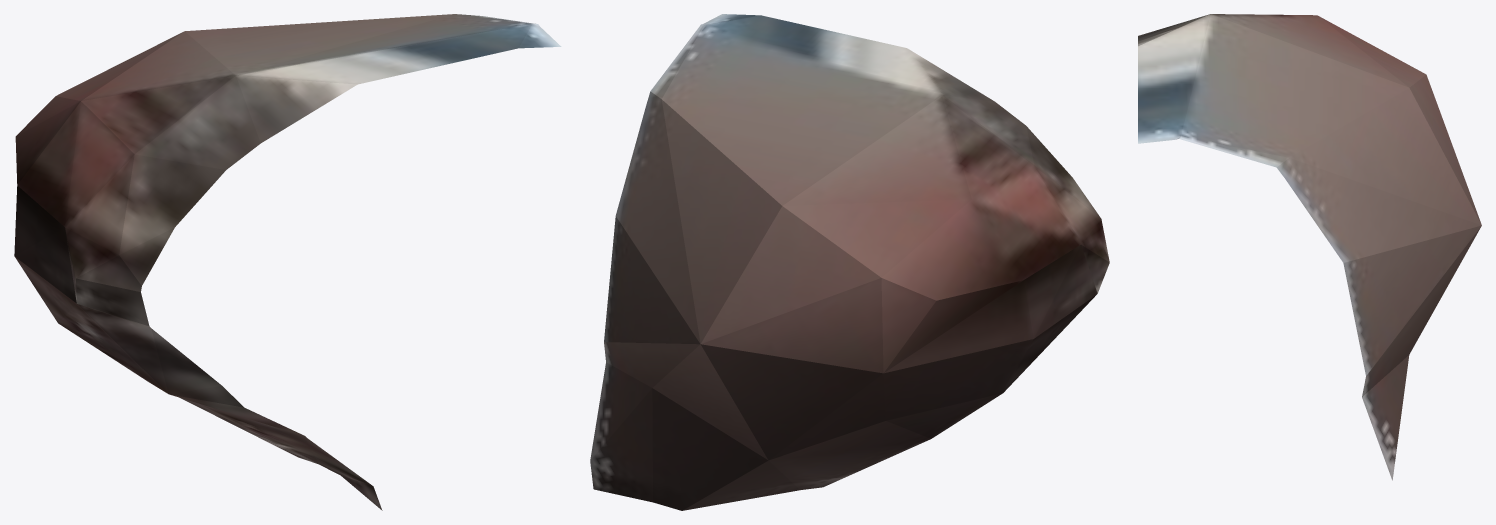
3 views of the same model, side by side, from view 1: azimuth 30°, elevation 25°; view 2: azimuth 150°, elevation 25°; view 3: azimuth 270°, elevation 25° (orthographic). The views are drawn at different scales.
Size of the model in its own units: 0.5765 by 0.5218 by 0.4307.
1 material, 1 textured.
